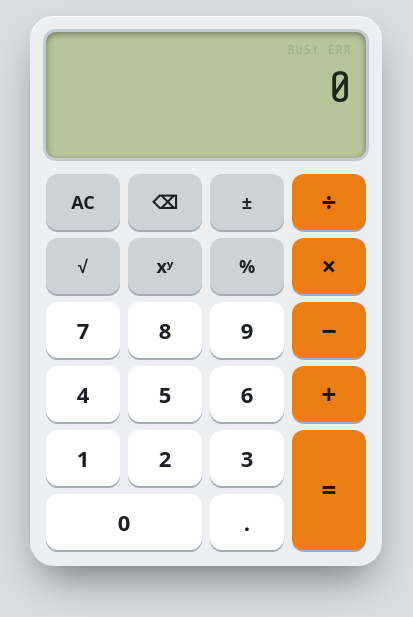
Test case: App › shows the pending expression
Click the button "1". click: (83, 458)
box: [46,430,120,486]
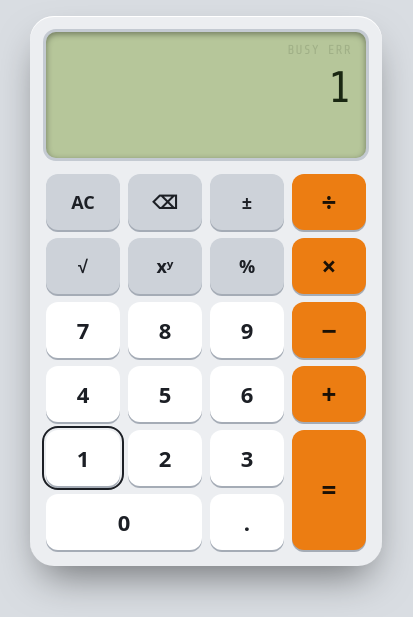
Click the button "2". click: (165, 458)
box: [128,430,202,486]
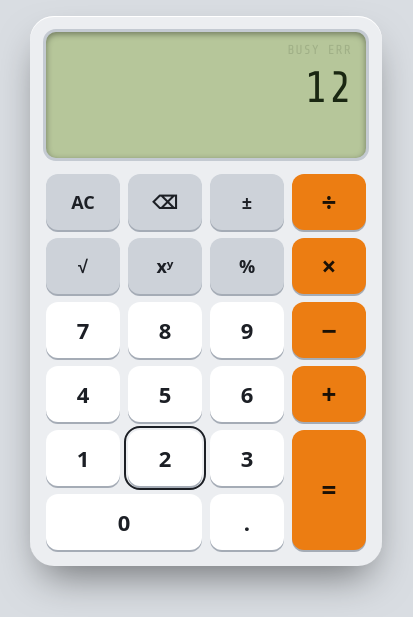
Click the button named "Add". click: (329, 394)
box: [292,366,366,422]
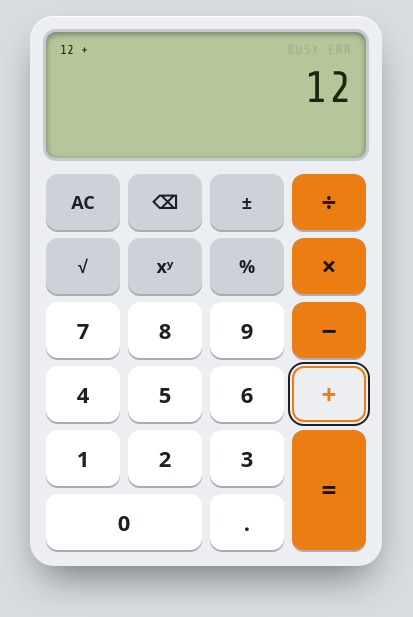
Check: the text "12 +" is shown, box [60,42,88,62]
